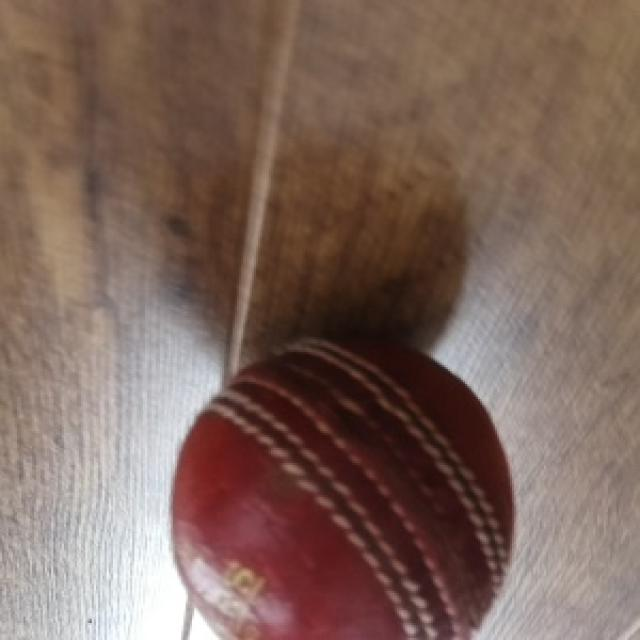ball: (169, 339, 516, 640)
